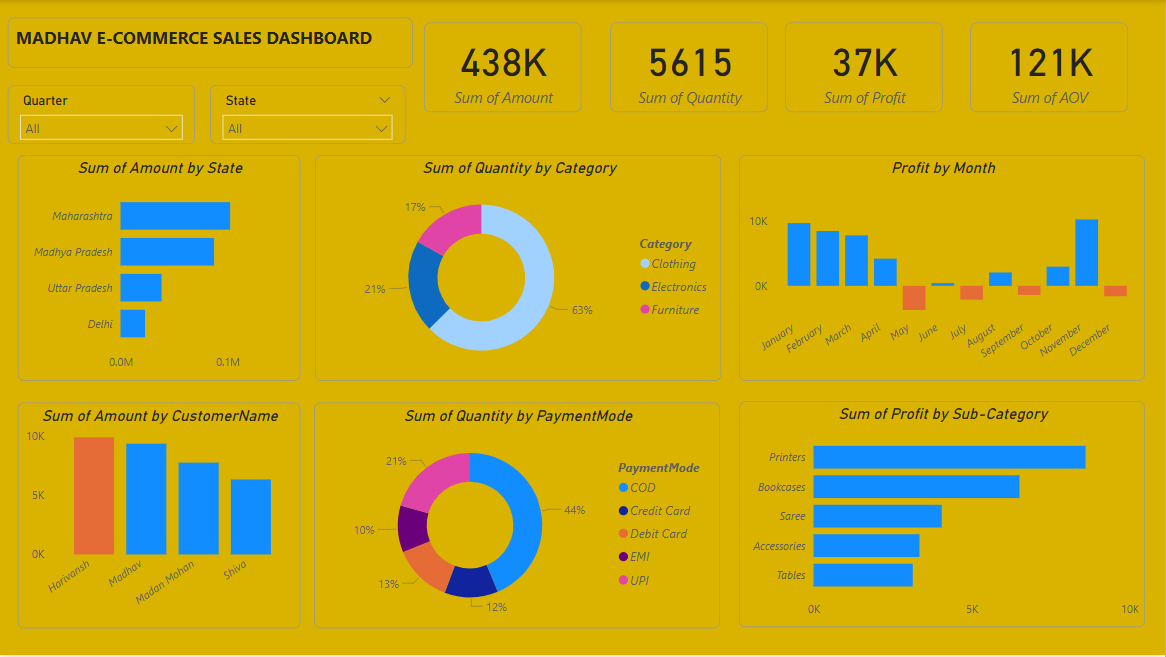

The dashboard page shown, as its layout file describes it:
{"tool":"powerbi","page":{"name":"Page 1","canvas":[1280,720],"ordinal":0},"visuals":[{"type":"textbox","box":[9.6,19.2,444.6,54.9],"z":0},{"type":"columnChart","title":" Profit by Month","fields":{"Category":["Orders.Order Date.Variation.Date Hierarchy.Month"],"Y":["Details.Profit"]},"box":[812.4,170.2,446,248.4],"z":1000},{"type":"barChart","fields":{"Category":["Details.Sub-Category"],"Y":["Details.Profit"]},"box":[812.4,440.5,446,248.4],"z":2000},{"type":"donutChart","fields":{"Category":["Details.Category"],"Y":["Details.Quantity"]},"box":[347.2,170.2,446,248.4],"z":3000},{"type":"donutChart","fields":{"Y":["Details.Quantity"],"Series":["Details.PaymentMode"]},"box":[345.8,441.9,446,248.4],"z":4000},{"type":"card","fields":{"Values":["Details.Amount"]},"box":[466.6,24.7,172.9,98.8],"z":5000},{"type":"card","fields":{"Values":["Details.Quantity"]},"box":[671,24.7,172.9,98.8],"z":6000},{"type":"card","fields":{"Values":["Details.Profit"]},"box":[863.1,24.7,172.9,98.8],"z":7000},{"type":"card","fields":{"Values":["Details.AOV"]},"box":[1066.2,24.7,172.9,98.8],"z":8000},{"type":"barChart","fields":{"Category":["Orders.State"],"Y":["Details.Amount"]},"box":[20.6,170.2,310.1,248.4],"z":9000},{"type":"columnChart","fields":{"Category":["Orders.CustomerName"],"Y":["Details.Amount"]},"box":[21,442,310,248],"z":10000},{"type":"slicer","fields":{"Values":["Orders.Order Date.Variation.Date Hierarchy.Quarter"]},"box":[9.6,93.3,205.8,64.5],"z":11000},{"type":"slicer","fields":{"Values":["Orders.State"]},"box":[231.9,93.3,214.1,64.5],"z":12000}]}

Visuals, with their boxes in screenshot pixels (x1, y1, x2, y2), scaled from the page's 1280x720 canvas onto the 1166x657 screenshot:
textbox: Rect(9, 18, 414, 68)
" Profit by Month" columnChart: Rect(740, 155, 1146, 382)
barChart - Details.Sub-Category x Details.Profit: Rect(740, 402, 1146, 629)
donutChart - Details.Category x Details.Quantity: Rect(316, 155, 723, 382)
donutChart - Details.Quantity x Details.PaymentMode: Rect(315, 403, 721, 630)
card - Details.Amount: Rect(425, 23, 583, 113)
card - Details.Quantity: Rect(611, 23, 769, 113)
card - Details.Profit: Rect(786, 23, 944, 113)
card - Details.AOV: Rect(971, 23, 1129, 113)
barChart - Orders.State x Details.Amount: Rect(19, 155, 301, 382)
columnChart - Orders.CustomerName x Details.Amount: Rect(19, 403, 302, 630)
slicer - Orders.Order Date.Variation.Date Hierarchy.Quarter: Rect(9, 85, 196, 144)
slicer - Orders.State: Rect(211, 85, 406, 144)
